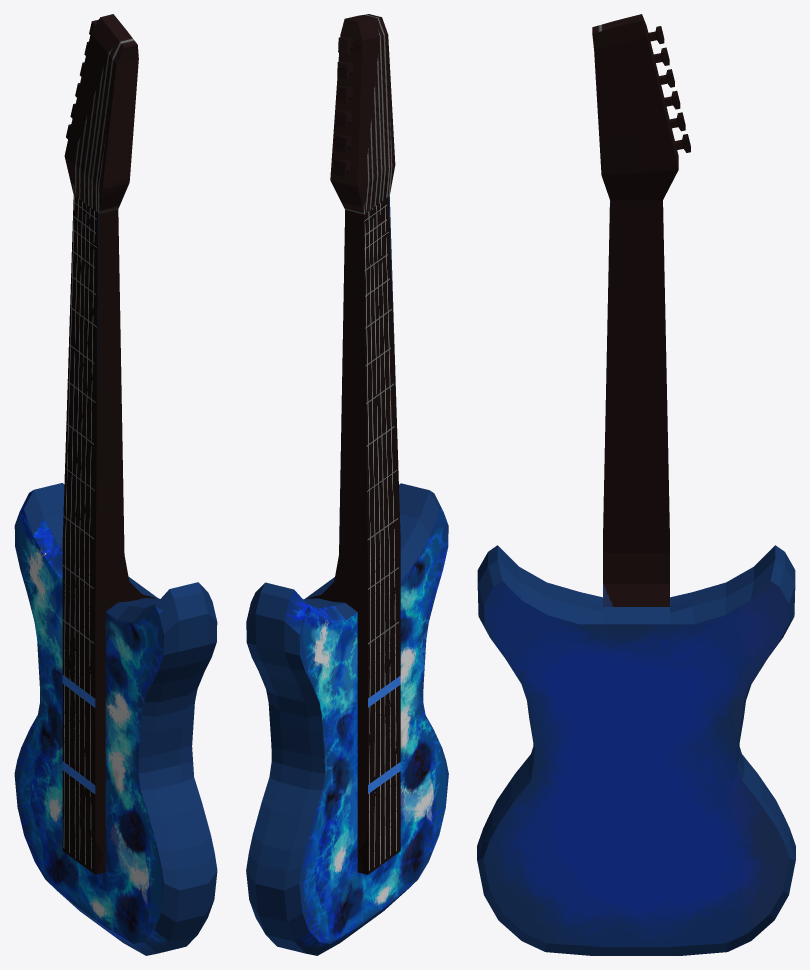
Rendered from electrician_arcana_guitar.fbx.
3 views of the same model, side by side, from view 1: azimuth 30°, elevation 25°; view 2: azimuth 150°, elevation 25°; view 3: azimuth 270°, elevation 25° (orthographic). The views are drawn at different scales.
Visible parts, largest first — view 1: Cube; view 2: Cube; view 3: Cube.
Part boxes in pixels (box(x1,y1,x2,y2)): Cube: box(14, 14, 217, 955); Cube: box(246, 14, 448, 955); Cube: box(477, 14, 795, 955).
Bounding box in the file's own units: 74.65 × 1018 × 317.
